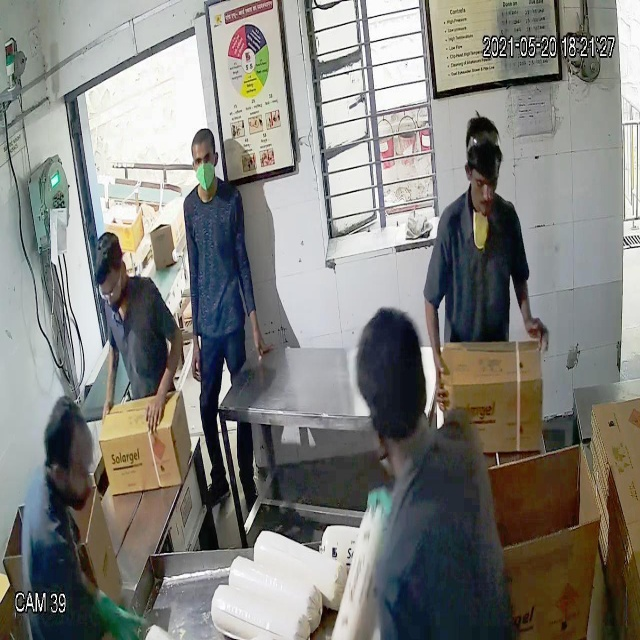Sin_gafas: (462, 159, 500, 196), (188, 148, 219, 172)
